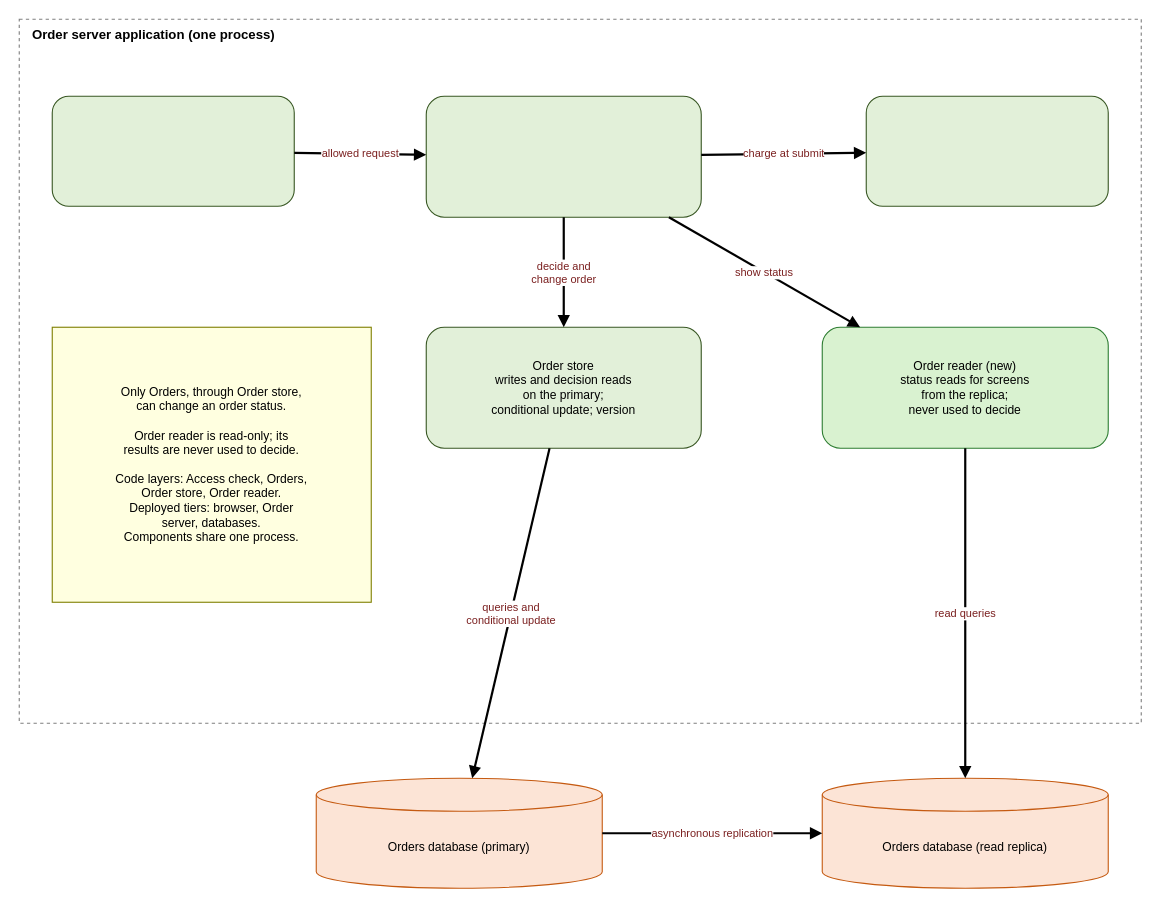
The diagram is 1161 pixels wide and 908 high, and some of its shapes have lost their labels. Here are the shapes that lost their labels. From the top down, the centre of each, then its label:
the point at 172,150: Access check identifies the caller; checks owner or manager role
the point at 563,156: Orders owns all order state rules: submit, accept, reject, cancel, deliver
the point at 986,150: Payment adapter (mock) returns success or failure
